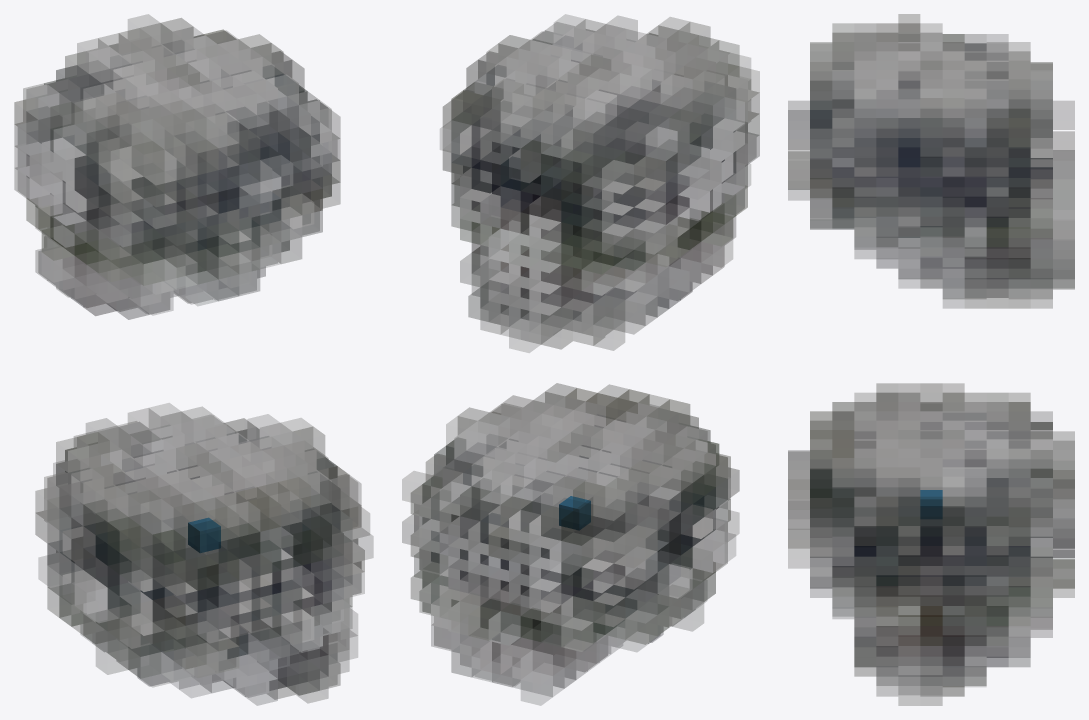
Rendered from iter_20.obj.
3 renders of one model, left to right at view 1: azimuth 30°, elevation 25°; view 2: azimuth 150°, elevation 25°; view 3: azimuth 270°, elevation 25°, orthographic. The views are drawn at different scales.
Parts seen in each view (by area): view 1: iter_20; view 2: iter_20; view 3: iter_20.
Part boxes in pixels (<box>): iter_20: <box>14,14,372,705</box>; iter_20: <box>402,14,759,705</box>; iter_20: <box>788,14,1074,705</box>.
Bounding box in the file's own units: 1.4 × 2.9 × 1.3.
